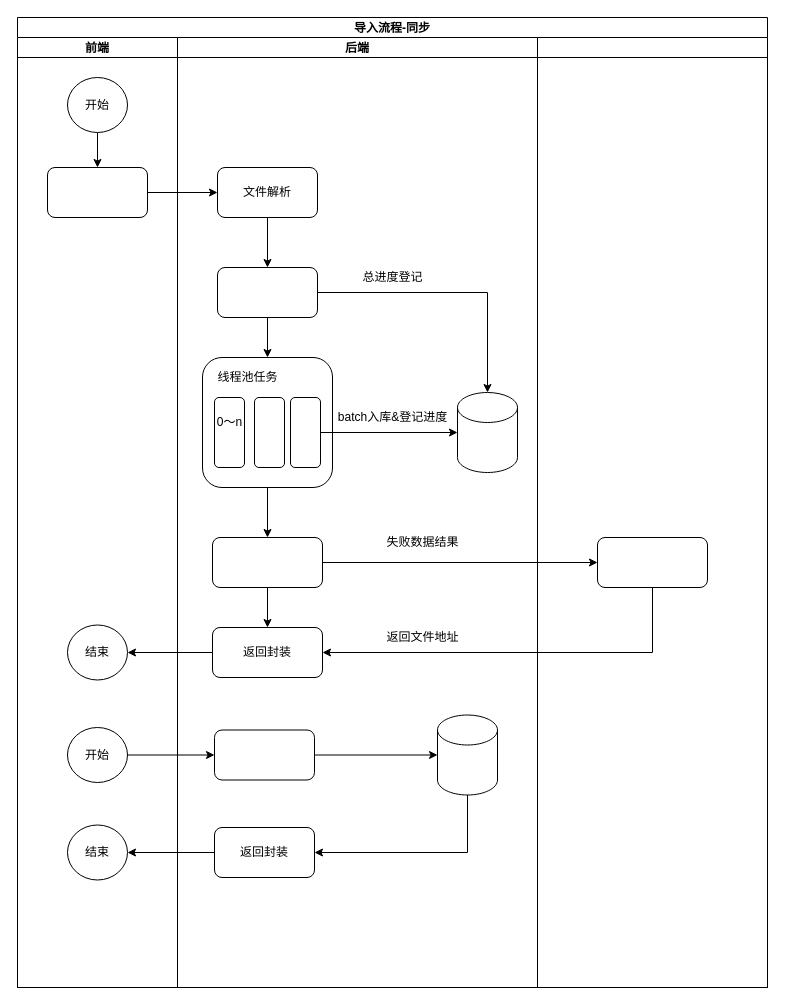
The diagram is 785 pixels wide and 1005 high, and some of its shapes have lost their labels. The shapes that lost their labels are listed below. From the top down, each one's box as (x1, y1, x2, y2) in pixels, then its label:
(46, 166, 148, 218): 选择文件
(216, 266, 318, 318): 总量判断&集合拆分
(536, 36, 768, 988): 文件服务器
(212, 536, 322, 588): 汇总数据
(596, 536, 708, 588): 生成失败数据文件
(214, 729, 314, 780): 进度查询
